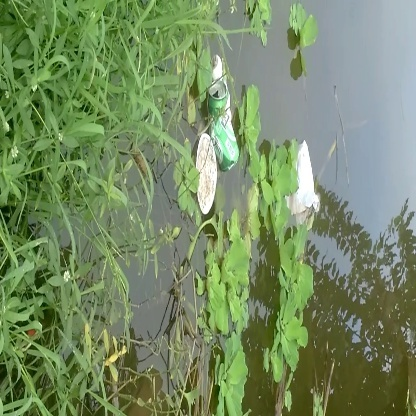bottle: (203, 78, 248, 170)
